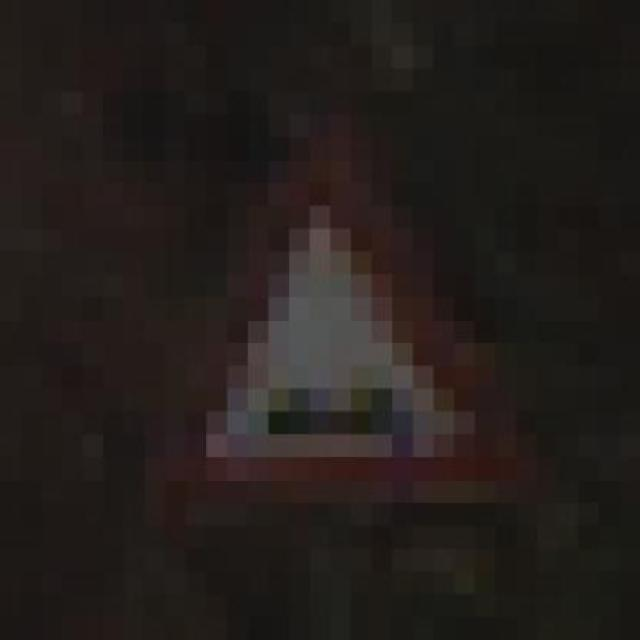Uneven Road: (145, 91, 537, 526)
